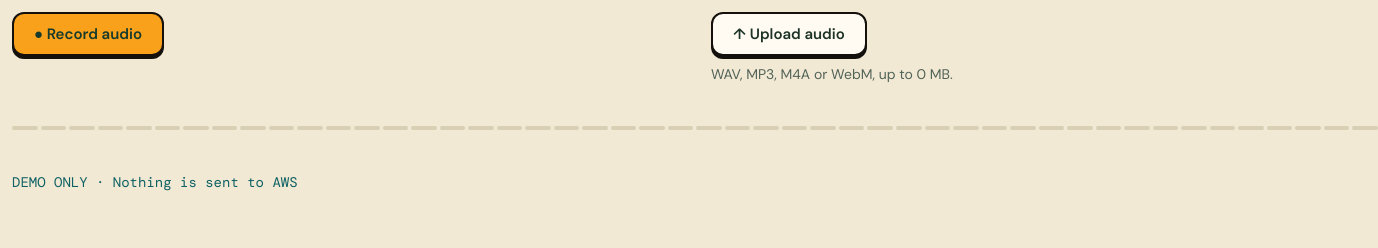
Scenario: RecorderUploader › handles microphone permission denial with an actionable error
Click the button "● Record audio": (88, 34) [12,12,164,56]
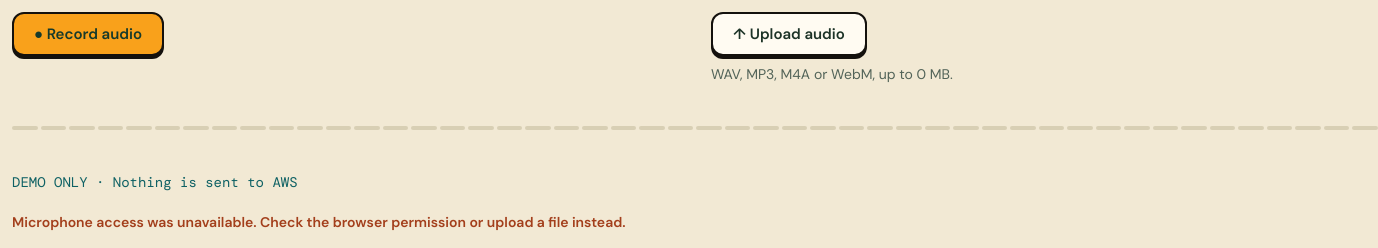
Expected: the message shows "Microphone access was unavailable", [12,213,626,231]
